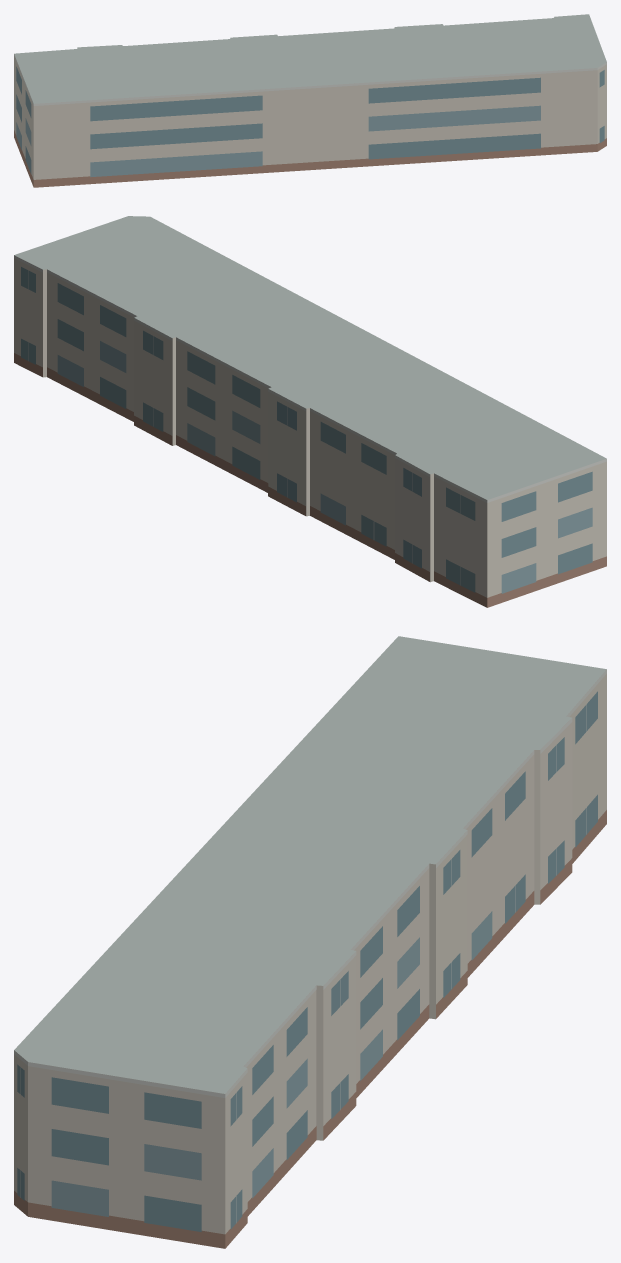
File: survey-upis-32898322.glb
3 renders of one model, top to bottom at view 1: azimuth 30°, elevation 25°; view 2: azimuth 150°, elevation 25°; view 3: azimuth 270°, elevation 25°, orthographic. The views are drawn at different scales.
Visible parts, largest first — view 1: survey-upis-32898322.tmp; view 2: survey-upis-32898322.tmp; view 3: survey-upis-32898322.tmp.
Boxes of the visible parts, box(x1,y1,x2,y2) form: survey-upis-32898322.tmp: box(14, 14, 606, 187); survey-upis-32898322.tmp: box(14, 216, 606, 607); survey-upis-32898322.tmp: box(14, 636, 606, 1248).
Size of the model in its own units: 58.05 by 9.15 by 31.76.
